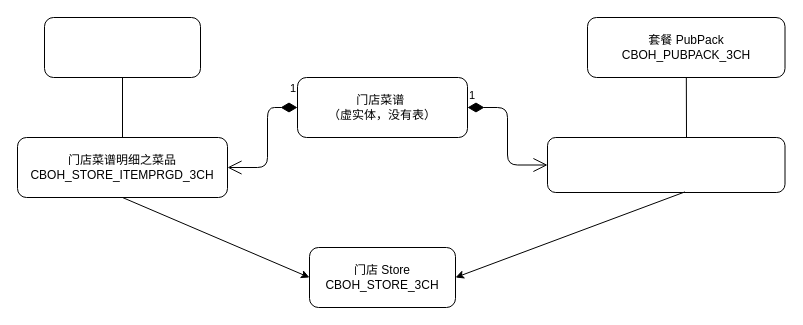
The diagram is 803 pixels wide and 325 high, and some of its shapes have lost their labels. Each missing label, with the centre of its shape:
"菜品 Pubitem CBOH_PUBITEM_3CH" belongs at pixel 122 47.
"门店菜谱明细之套餐 CBOH_STORE_ITEMPRGPACKAGE_3CH" belongs at pixel 665 164.
